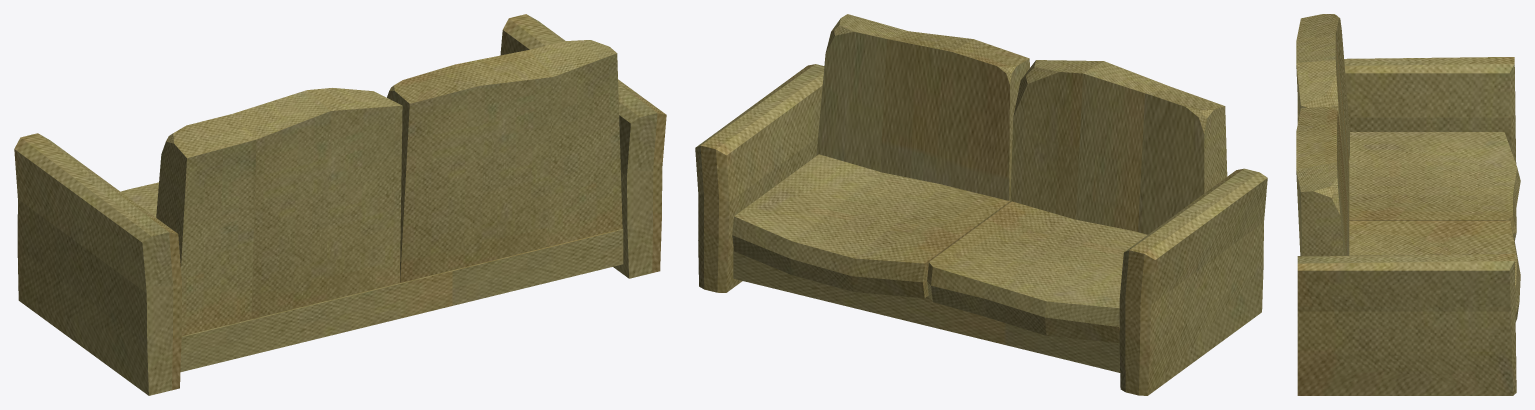
Rendered from psx_sofa.glb.
3 renders of one model, left to right at view 1: azimuth 30°, elevation 25°; view 2: azimuth 150°, elevation 25°; view 3: azimuth 270°, elevation 25°, orthographic. The views are drawn at different scales.
Visible parts, largest first — view 1: sofa_0; view 2: sofa_0; view 3: sofa_0.
Boxes of the visible parts, x1,y1,x2,y2 form: sofa_0: (14,14,666,395); sofa_0: (695,14,1267,395); sofa_0: (1296,14,1520,395).
Bounding box in the file's own units: 2.09 × 0.9346 × 0.9392.
Materials: 1 (1 with a texture image).
